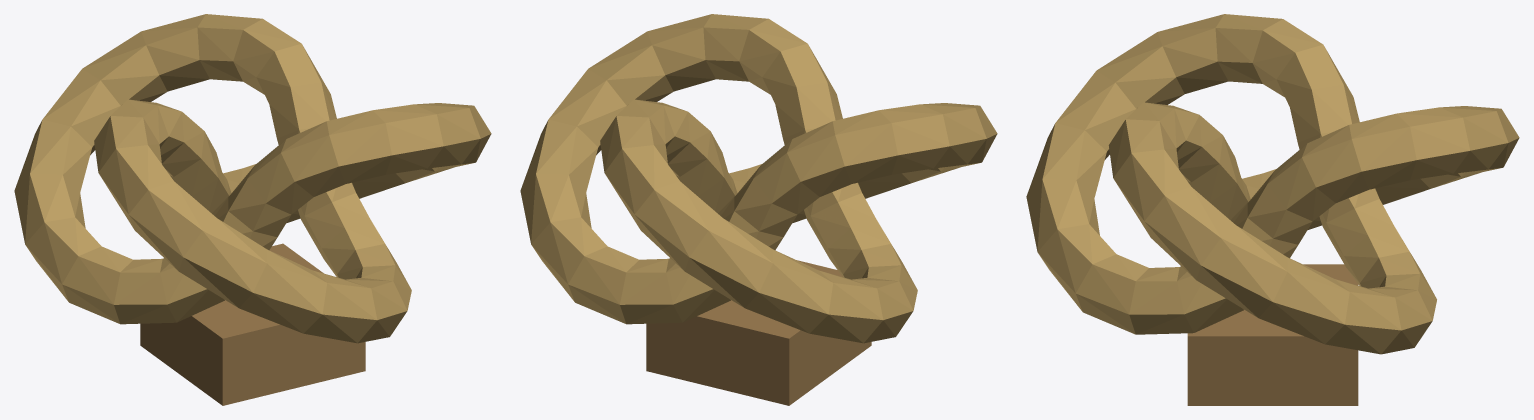
File: VIC_H04_GILDED_KNOT_Roblox.fbx
3 renders of one model, left to right at view 1: azimuth 30°, elevation 25°; view 2: azimuth 150°, elevation 25°; view 3: azimuth 270°, elevation 25°, orthographic. The views are drawn at different scales.
Parts seen in each view (by area): view 1: VIC_H04_GILDED_KNOT__Brass.001, VIC_H04_GILDED_KNOT__Bronze.001; view 2: VIC_H04_GILDED_KNOT__Brass.001, VIC_H04_GILDED_KNOT__Bronze.001; view 3: VIC_H04_GILDED_KNOT__Brass.001, VIC_H04_GILDED_KNOT__Bronze.001.
Boxes of the visible parts, left/top/right/bottom form: VIC_H04_GILDED_KNOT__Brass.001: left=14, top=14, right=491, bottom=343; VIC_H04_GILDED_KNOT__Bronze.001: left=140, top=243, right=365, bottom=405; VIC_H04_GILDED_KNOT__Brass.001: left=520, top=14, right=997, bottom=343; VIC_H04_GILDED_KNOT__Bronze.001: left=646, top=260, right=871, bottom=405; VIC_H04_GILDED_KNOT__Brass.001: left=1026, top=14, right=1519, bottom=354; VIC_H04_GILDED_KNOT__Bronze.001: left=1187, top=264, right=1358, bottom=405.
Bounding box in the file's own units: 3.31 × 2.19 × 3.47.
